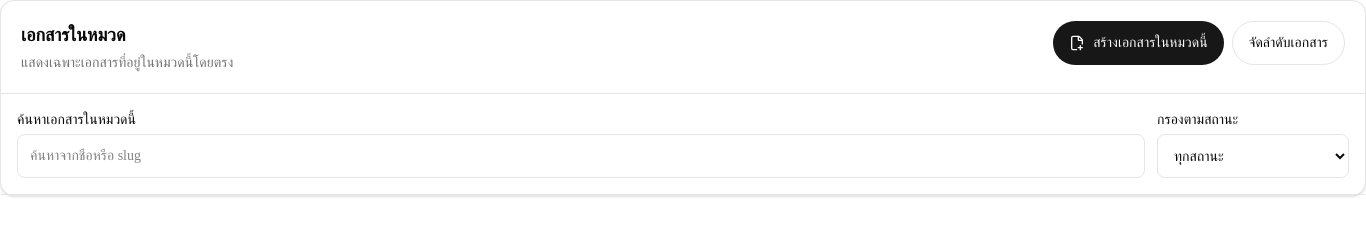
Test: DocumentList › disables reorder while filtering and explains why
Type "1" into the search field labelled "ค้นหาเอกสารในหมวดนี้".
click(581, 156); type("1")  # box [17,134,1145,178]
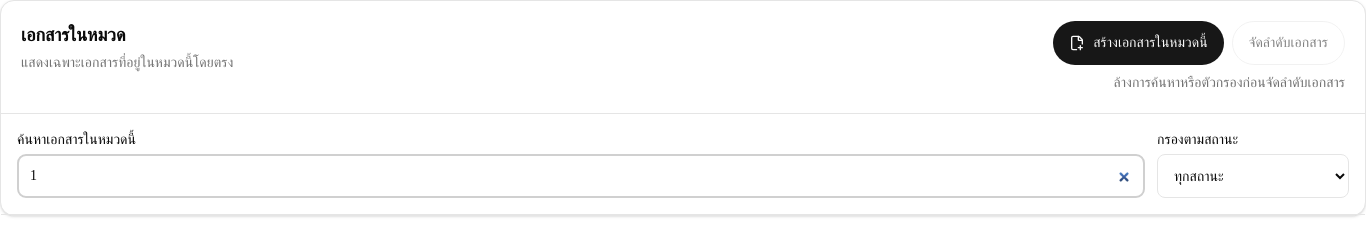
Now the button "จัดลำดับเอกสาร" is disabled, box [1232,21,1345,65]
Now the text "ล้างการค้นหาหรือตัวกรองก่อนจัดลำดับเอกสาร" is shown, box [1114,75,1345,90]
Clear the search field labelled "ค้นหาเอกสารในหมวดนี้" at (581, 176), box [17,154,1145,198]
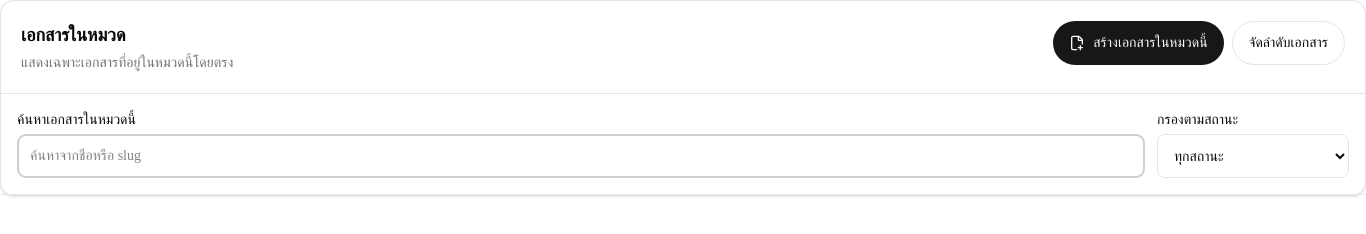
Select "ฉบับร่าง" in the dropdown labelled "กรองตามสถานะ" at (1253, 156), box [1157,134,1349,178]
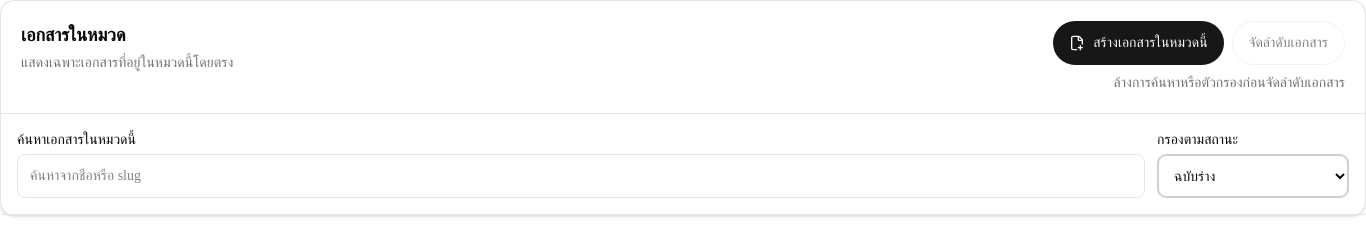
Now the button "จัดลำดับเอกสาร" is disabled, box [1232,21,1345,65]
Now the text "ล้างการค้นหาหรือตัวกรองก่อนจัดลำดับเอกสาร" is shown, box [1114,75,1345,90]
